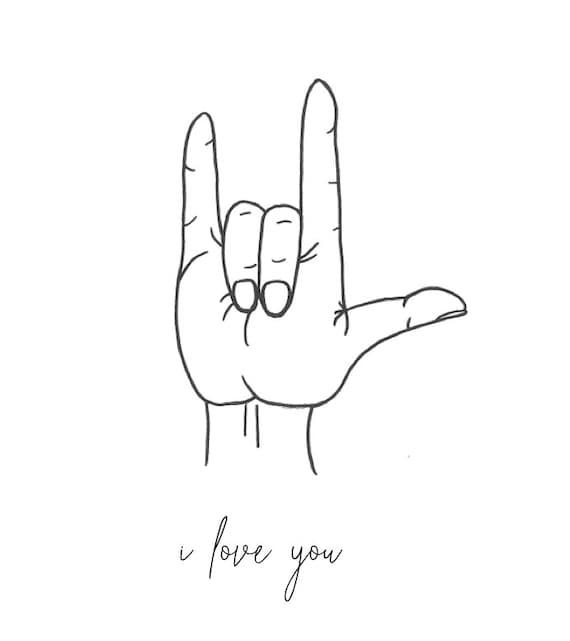Love_you: (163, 70, 469, 485)
